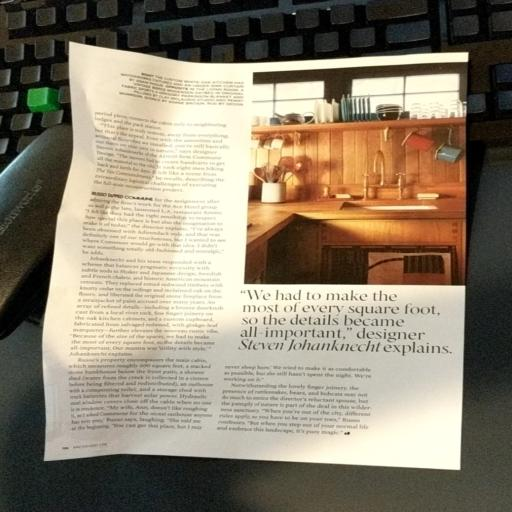paper: (27, 32, 512, 489)
